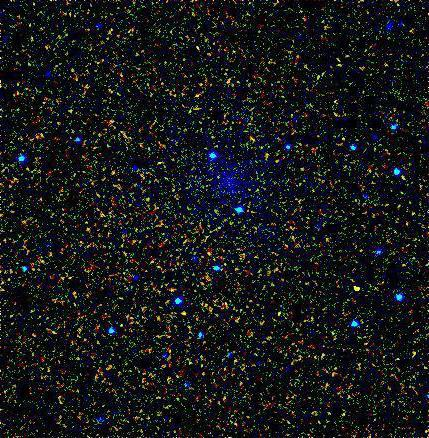star: (342, 274, 372, 304)
